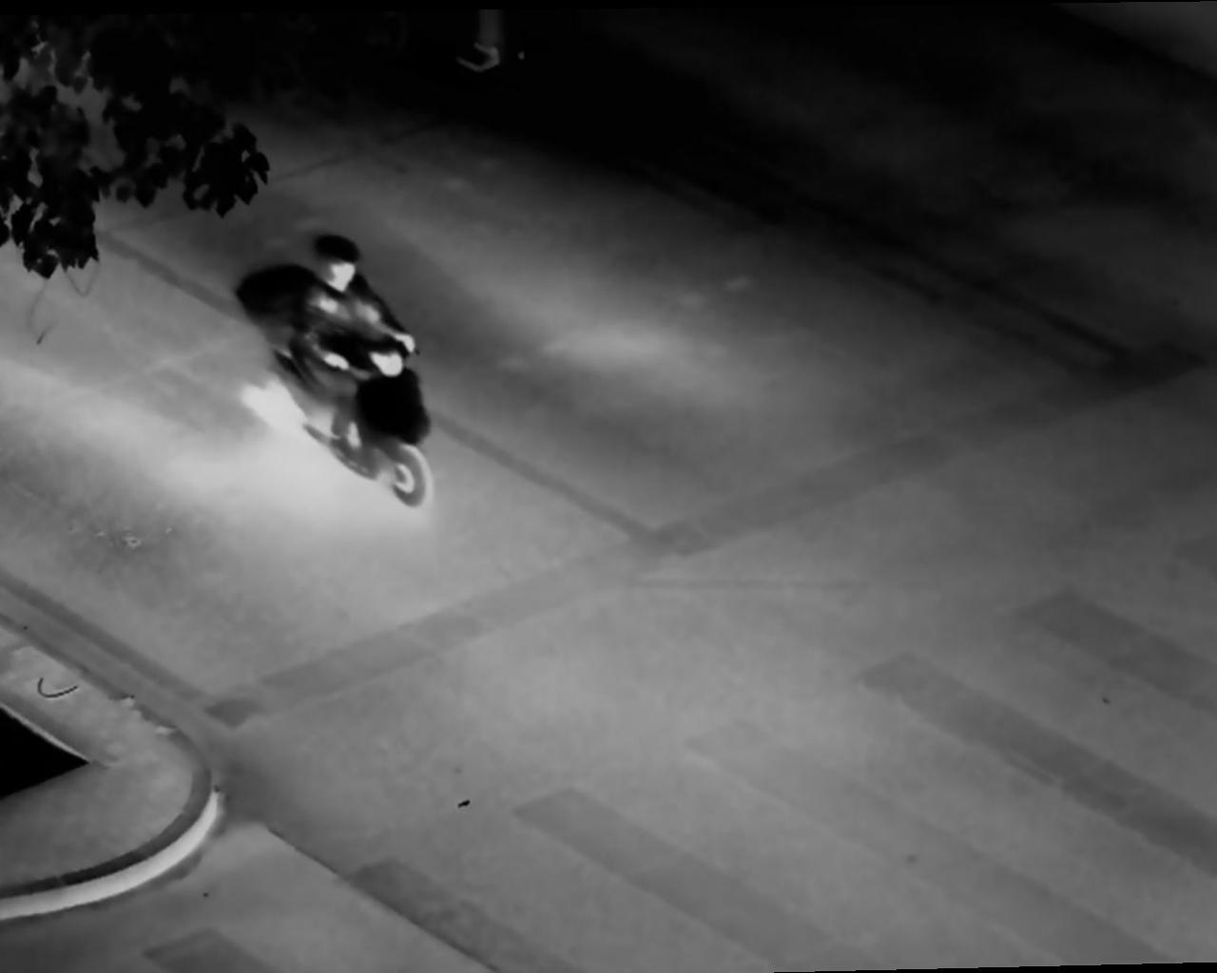person: (293, 229, 405, 472)
